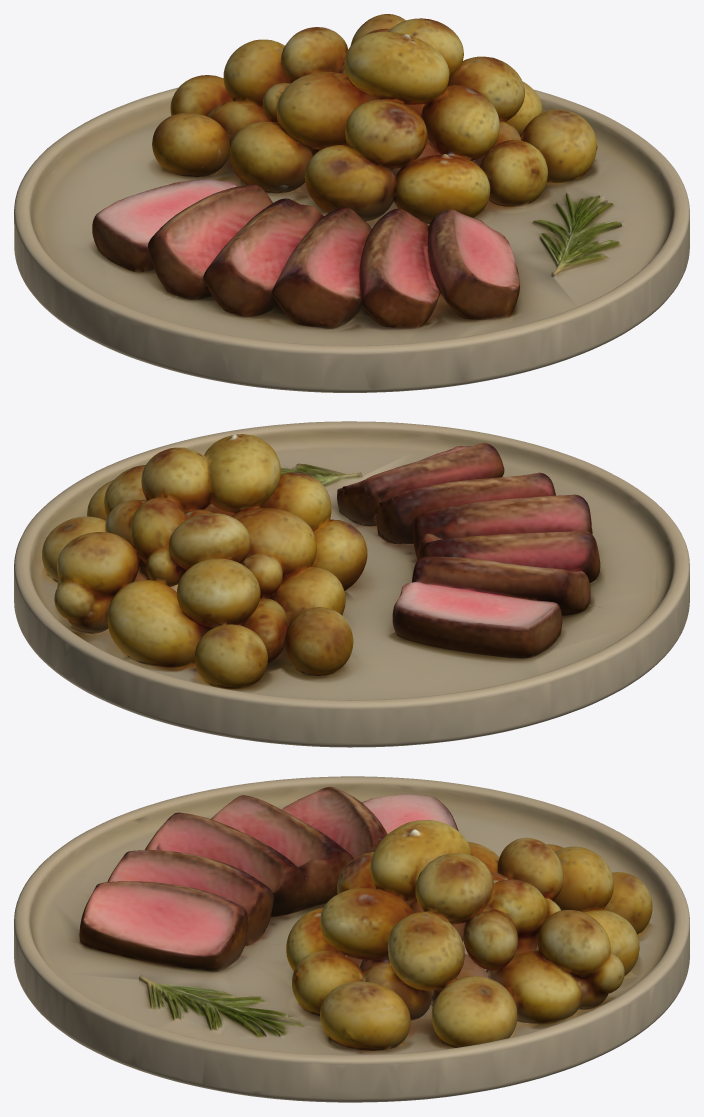
File: tagliata.glb
3 views of the same model, one above another, from view 1: azimuth 30°, elevation 25°; view 2: azimuth 150°, elevation 25°; view 3: azimuth 270°, elevation 25° (orthographic).
Parts seen in each view (by area): view 1: node_0; view 2: node_0; view 3: node_0.
Boxes of the visible parts, x1,y1,x2,y2 form: node_0: (14,14,689,392); node_0: (14,421,689,747); node_0: (14,776,689,1102).
Size of the model in its own units: 1.16 by 0.3298 by 1.16.
1 material, 1 textured.
